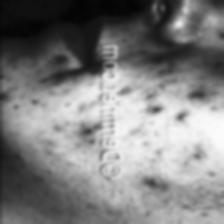Non-Cancerous Skin Condition: (78, 122, 102, 142), (148, 106, 162, 114), (178, 116, 188, 120), (220, 32, 224, 40)
